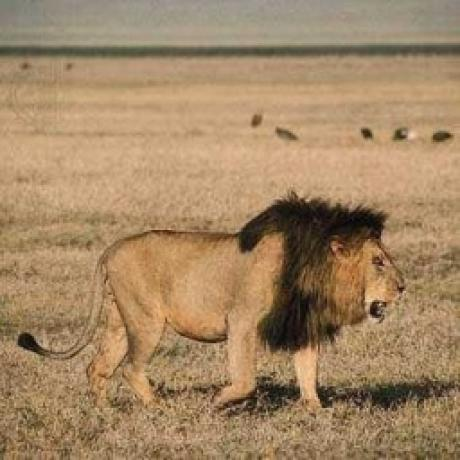Lion: (12, 190, 413, 415)
